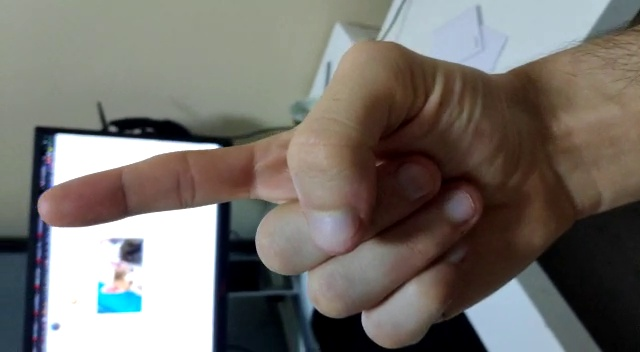One: (54, 23, 593, 350)
